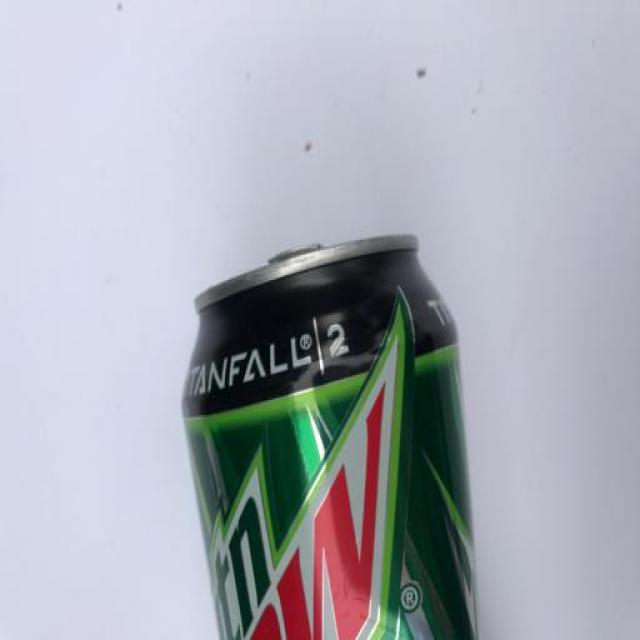metel: (167, 249, 496, 640)
